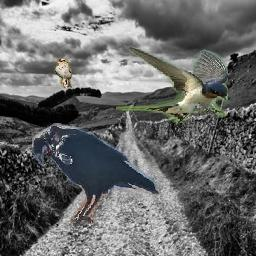Crow: (32, 124, 160, 227)
Sparrow: (54, 58, 73, 88)
Swallow: (116, 45, 228, 124)
